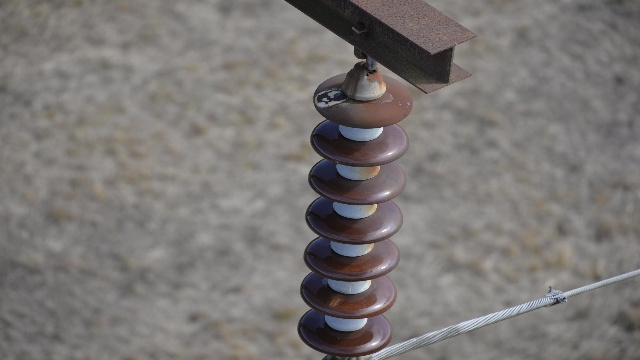insulator_unspecified: (297, 72, 413, 356)
pollution_flashover_local: (312, 87, 350, 108), (329, 291, 345, 313)
